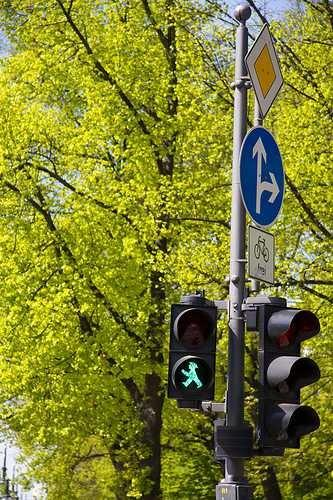green: (172, 351, 213, 399)
red: (260, 299, 320, 451)
